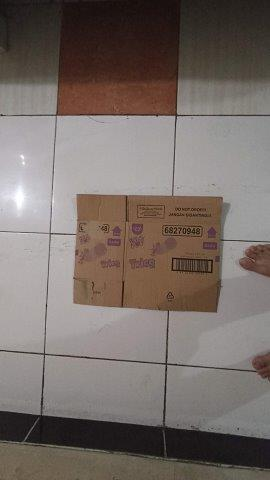kardus: (75, 195, 223, 312)
